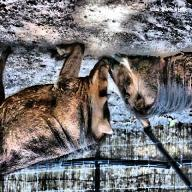boar: (0, 34, 109, 180), (109, 43, 192, 130)
